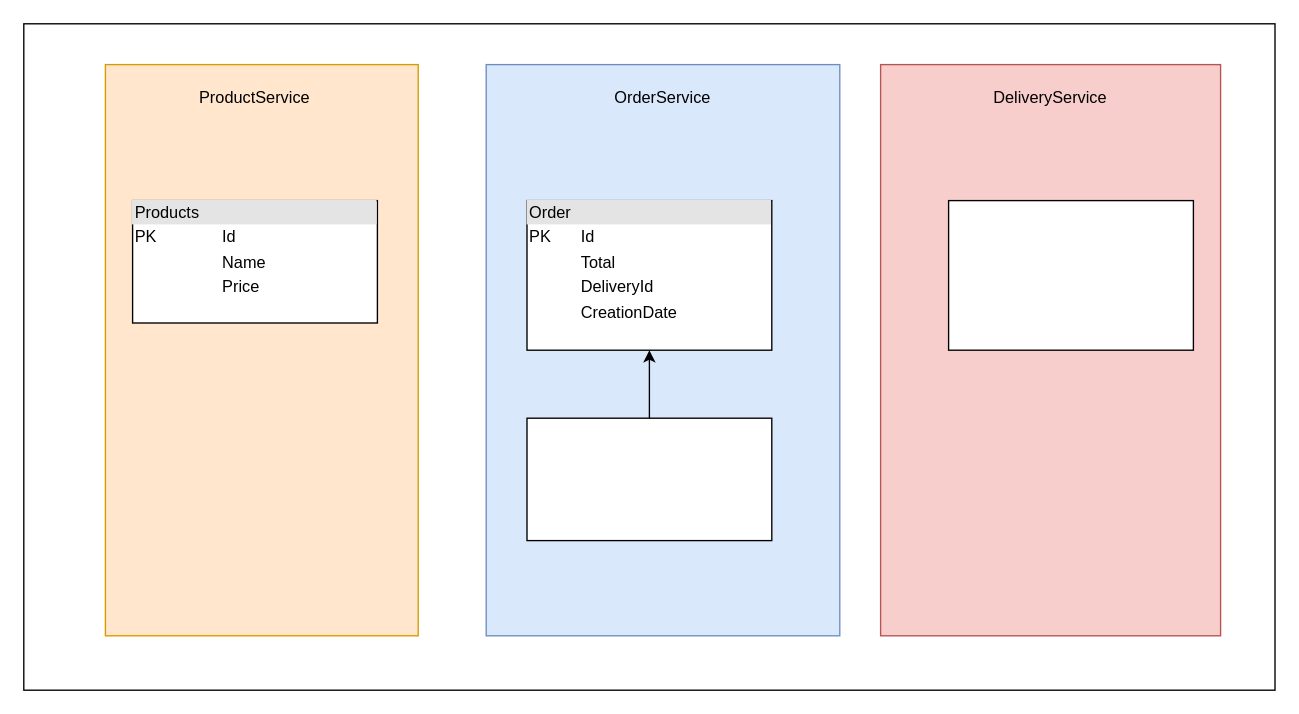
Some shapes in this 1299 by 714 pixel diagram are drawn without their labels. The centre of each missing label's shape, as x and y in pixels:
"Delivery PK Id ExtimatedShipDate OrderId" goes at [1070,274].
"OrderProduct PK Id ProductId FK OrderId" goes at [649,479].
